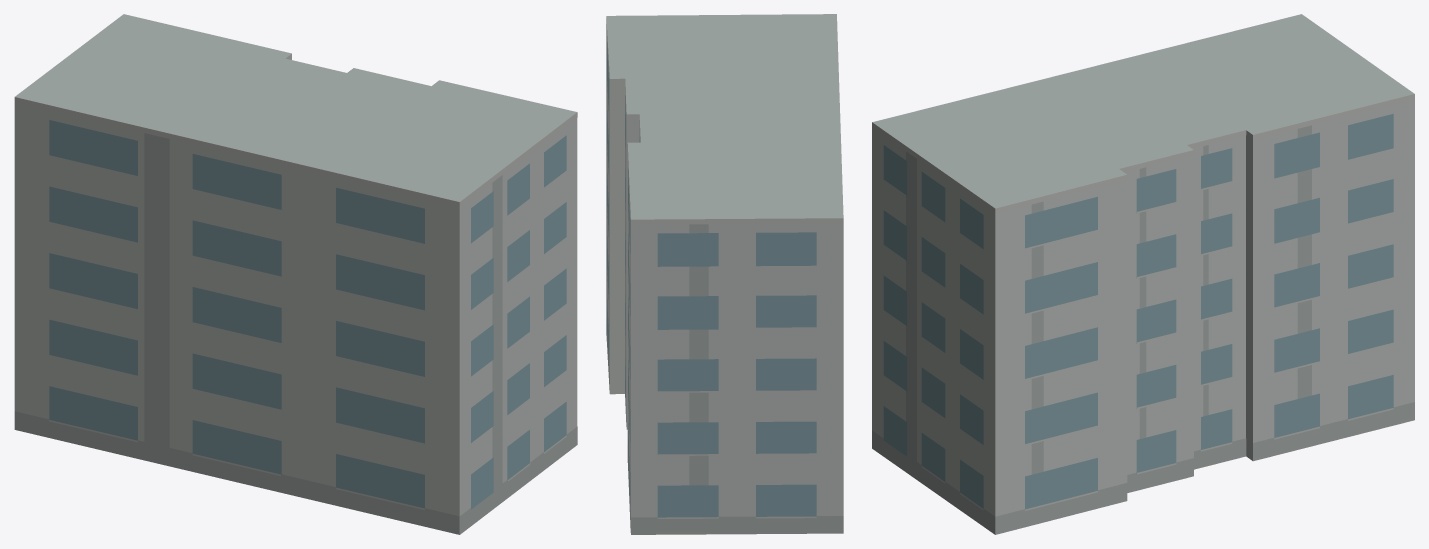
Rendered from survey-upis-32536144.glb.
The picture shows the model from 3 angles, left to right: view 1: azimuth 30°, elevation 25°; view 2: azimuth 150°, elevation 25°; view 3: azimuth 270°, elevation 25°; orthographic projection. The views are drawn at different scales.
Visible parts, largest first — view 1: survey-upis-32536144.tmp; view 2: survey-upis-32536144.tmp; view 3: survey-upis-32536144.tmp.
Boxes of the visible parts, x1,y1,x2,y2 form: survey-upis-32536144.tmp: (14, 14, 577, 534); survey-upis-32536144.tmp: (606, 14, 843, 534); survey-upis-32536144.tmp: (872, 14, 1414, 534).
Size of the model in its own units: 19.19 by 15 by 22.62.
